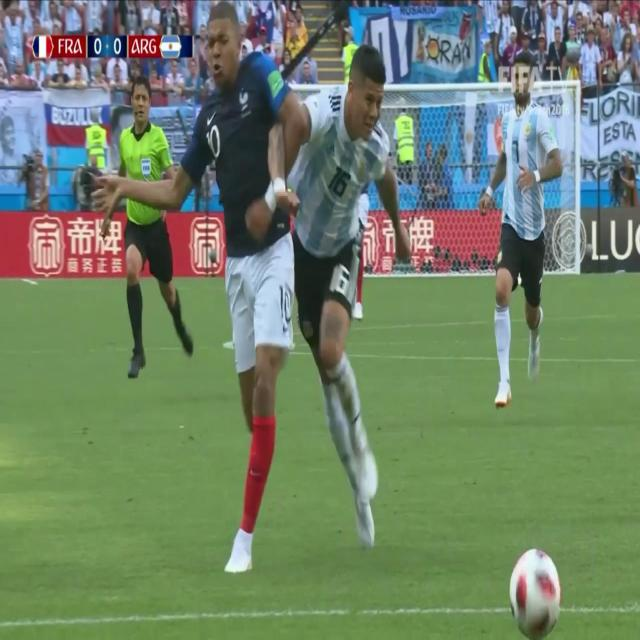ball: (504, 536, 570, 640)
player: (159, 0, 340, 546), (255, 38, 413, 535), (477, 48, 566, 409), (99, 69, 197, 388)
